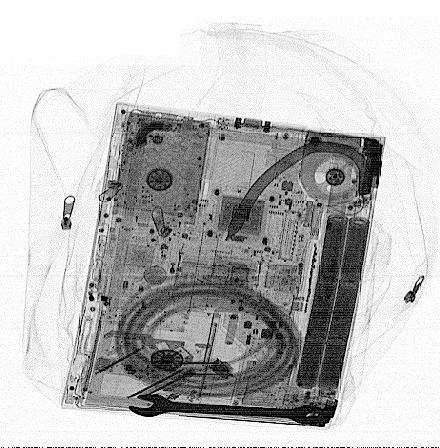Wrench: (125, 391, 330, 427)
